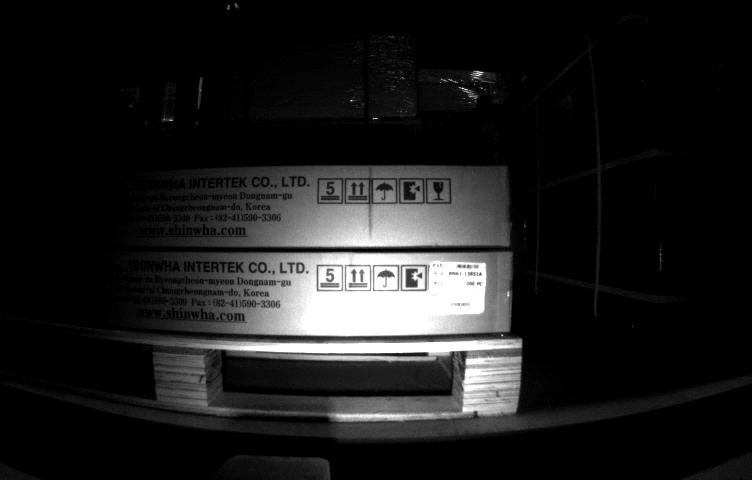True Barcode: (428, 261, 487, 314)
